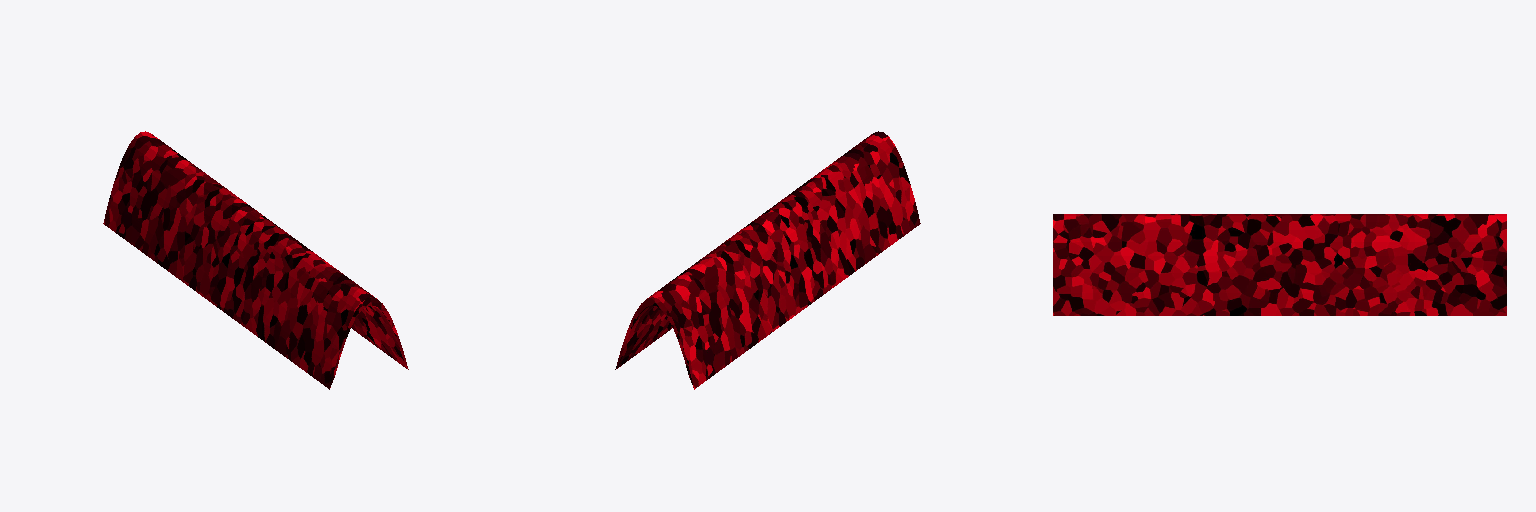
3 views of the same model, side by side, from view 1: azimuth 30°, elevation 25°; view 2: azimuth 150°, elevation 25°; view 3: azimuth 270°, elevation 25° (orthographic).
Visible parts, largest first — view 1: z_20_Z_Function; view 2: z_20_Z_Function; view 3: z_20_Z_Function.
Part boxes in pixels (left/top/right/bottom): z_20_Z_Function: left=103, top=131, right=408, bottom=389; z_20_Z_Function: left=615, top=131, right=920, bottom=389; z_20_Z_Function: left=1053, top=214, right=1506, bottom=315.
Bounding box in the file's own units: 20.14 × 20.04 × 100.
1 materials, 1 textured.